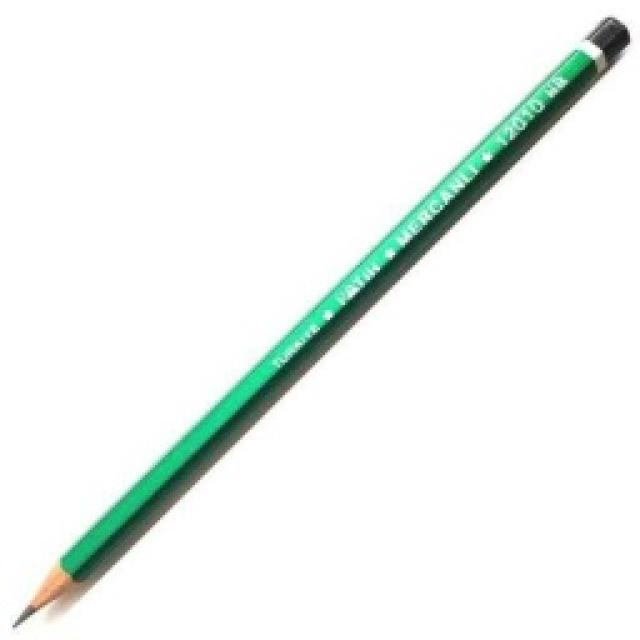pencil: (5, 10, 635, 630)
